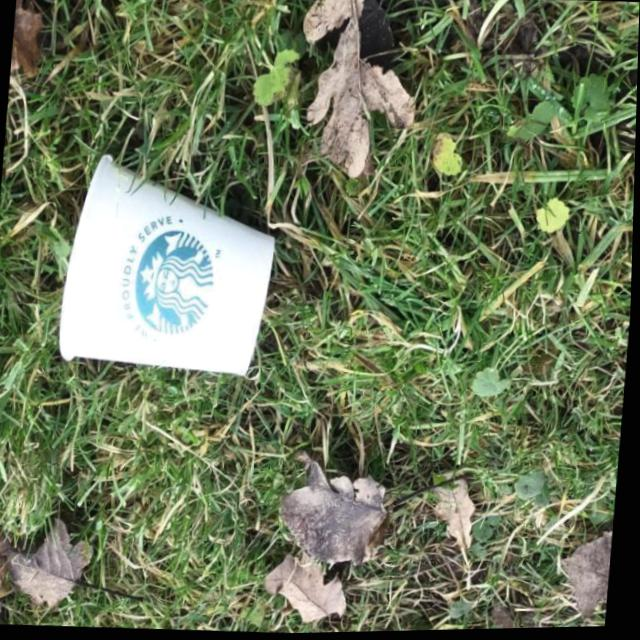Cup: (53, 137, 290, 392)
